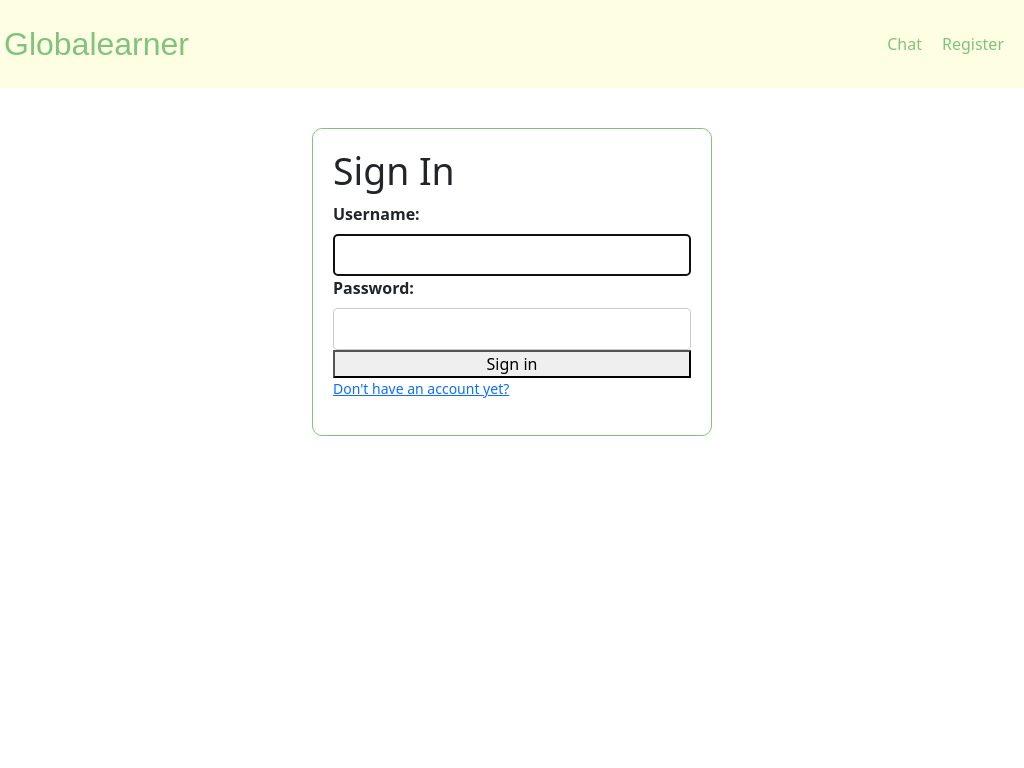
Test: End-to-End Registration › should type message
The width and height of the screenshot is (1024, 768).
Type "cypress1" into the field with test id "cypress-LoginUsername".
click(512, 255); type("cypress1")  # box x1=333 y1=234 x2=691 y2=276
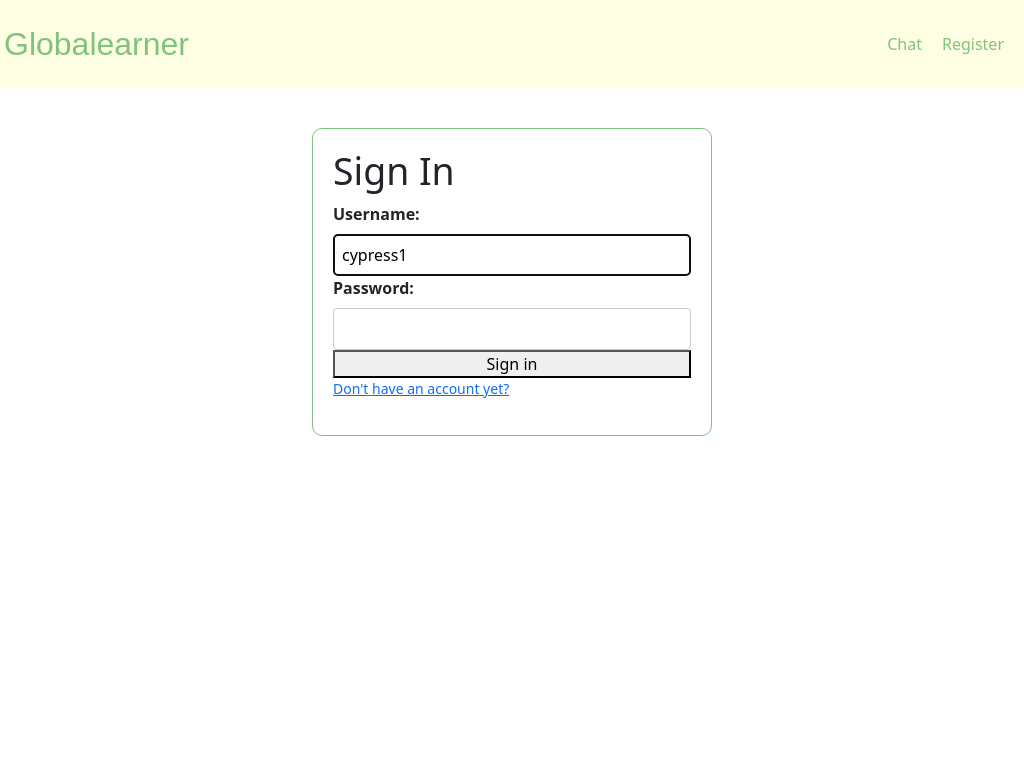
Type "Cypress2" into the password field with test id "cypress-loginPassword".
click(512, 329); type("Cypress2")  # box x1=333 y1=308 x2=691 y2=350
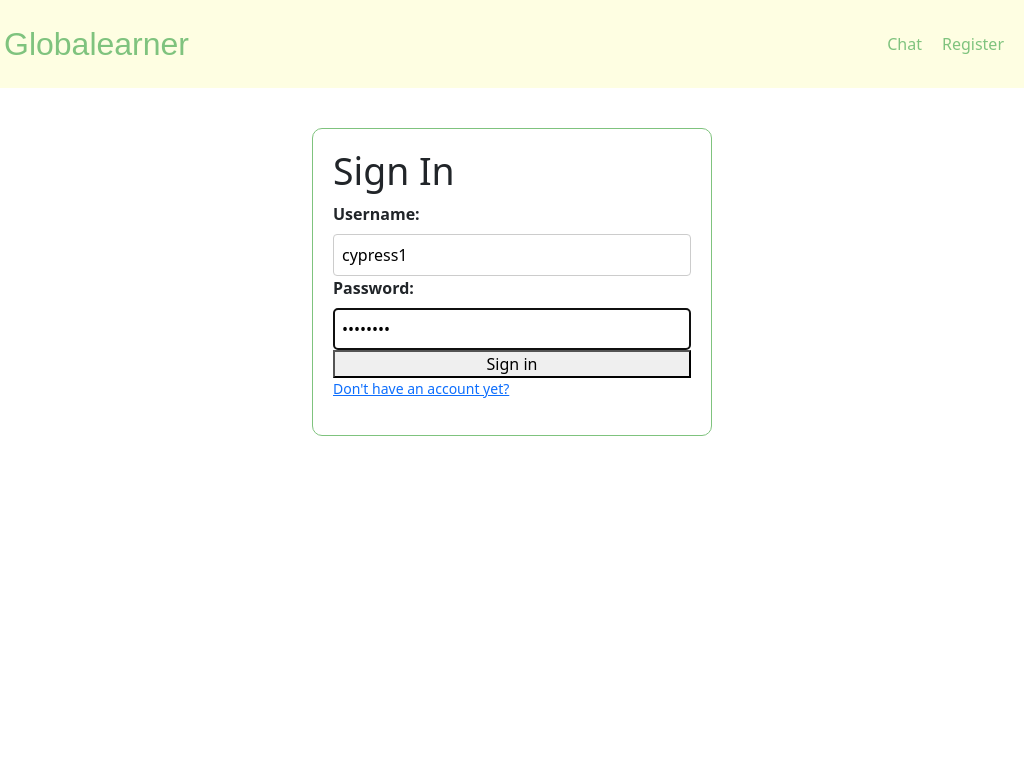
Click the button with test id "cypress-loginSignin".
click(512, 364)  # box x1=333 y1=350 x2=691 y2=378
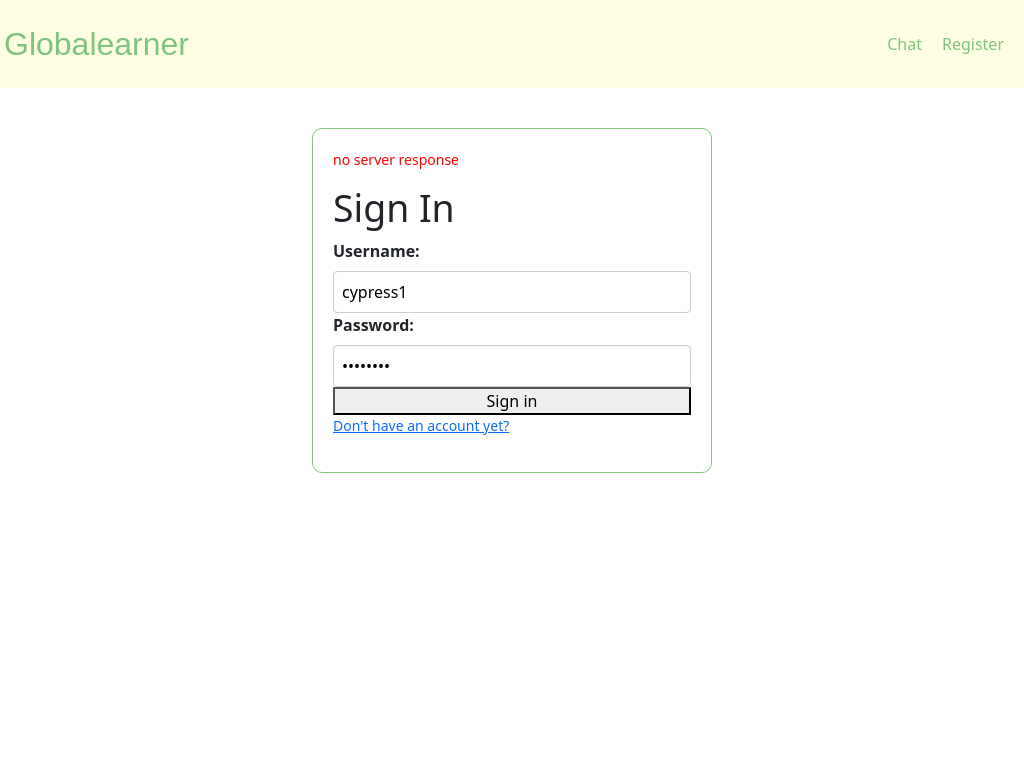
Open "http://localhost:3000/chat/10"
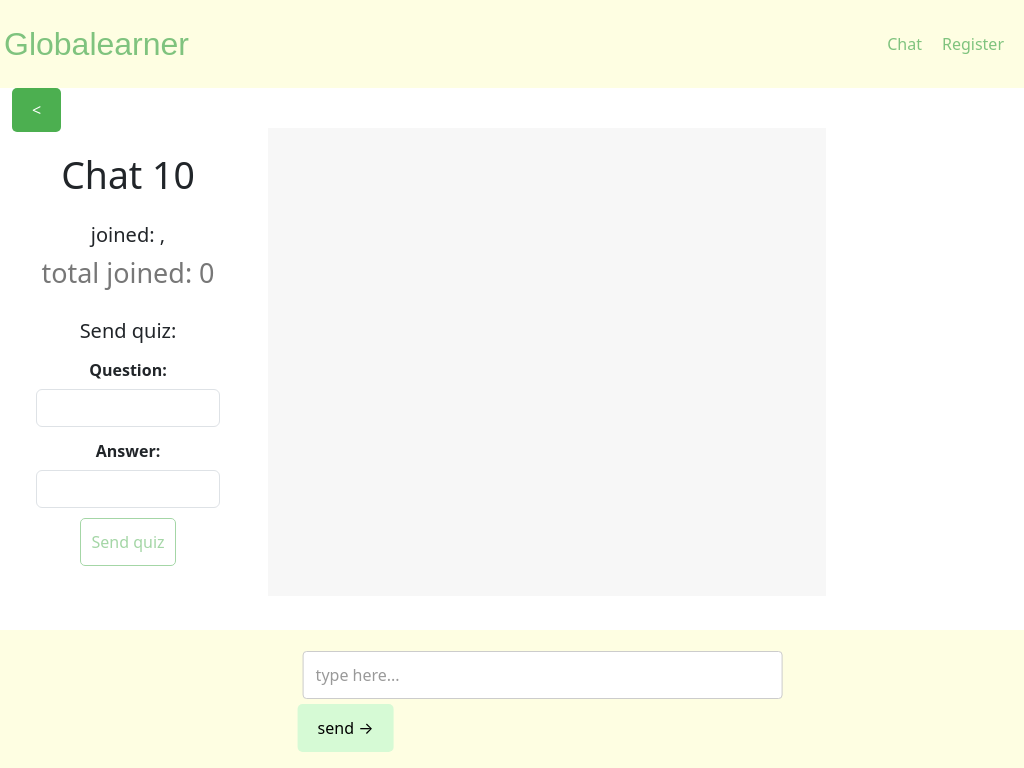
Now the field with test id "cypress-messageInput" is shown, box x1=303 y1=651 x2=783 y2=699
